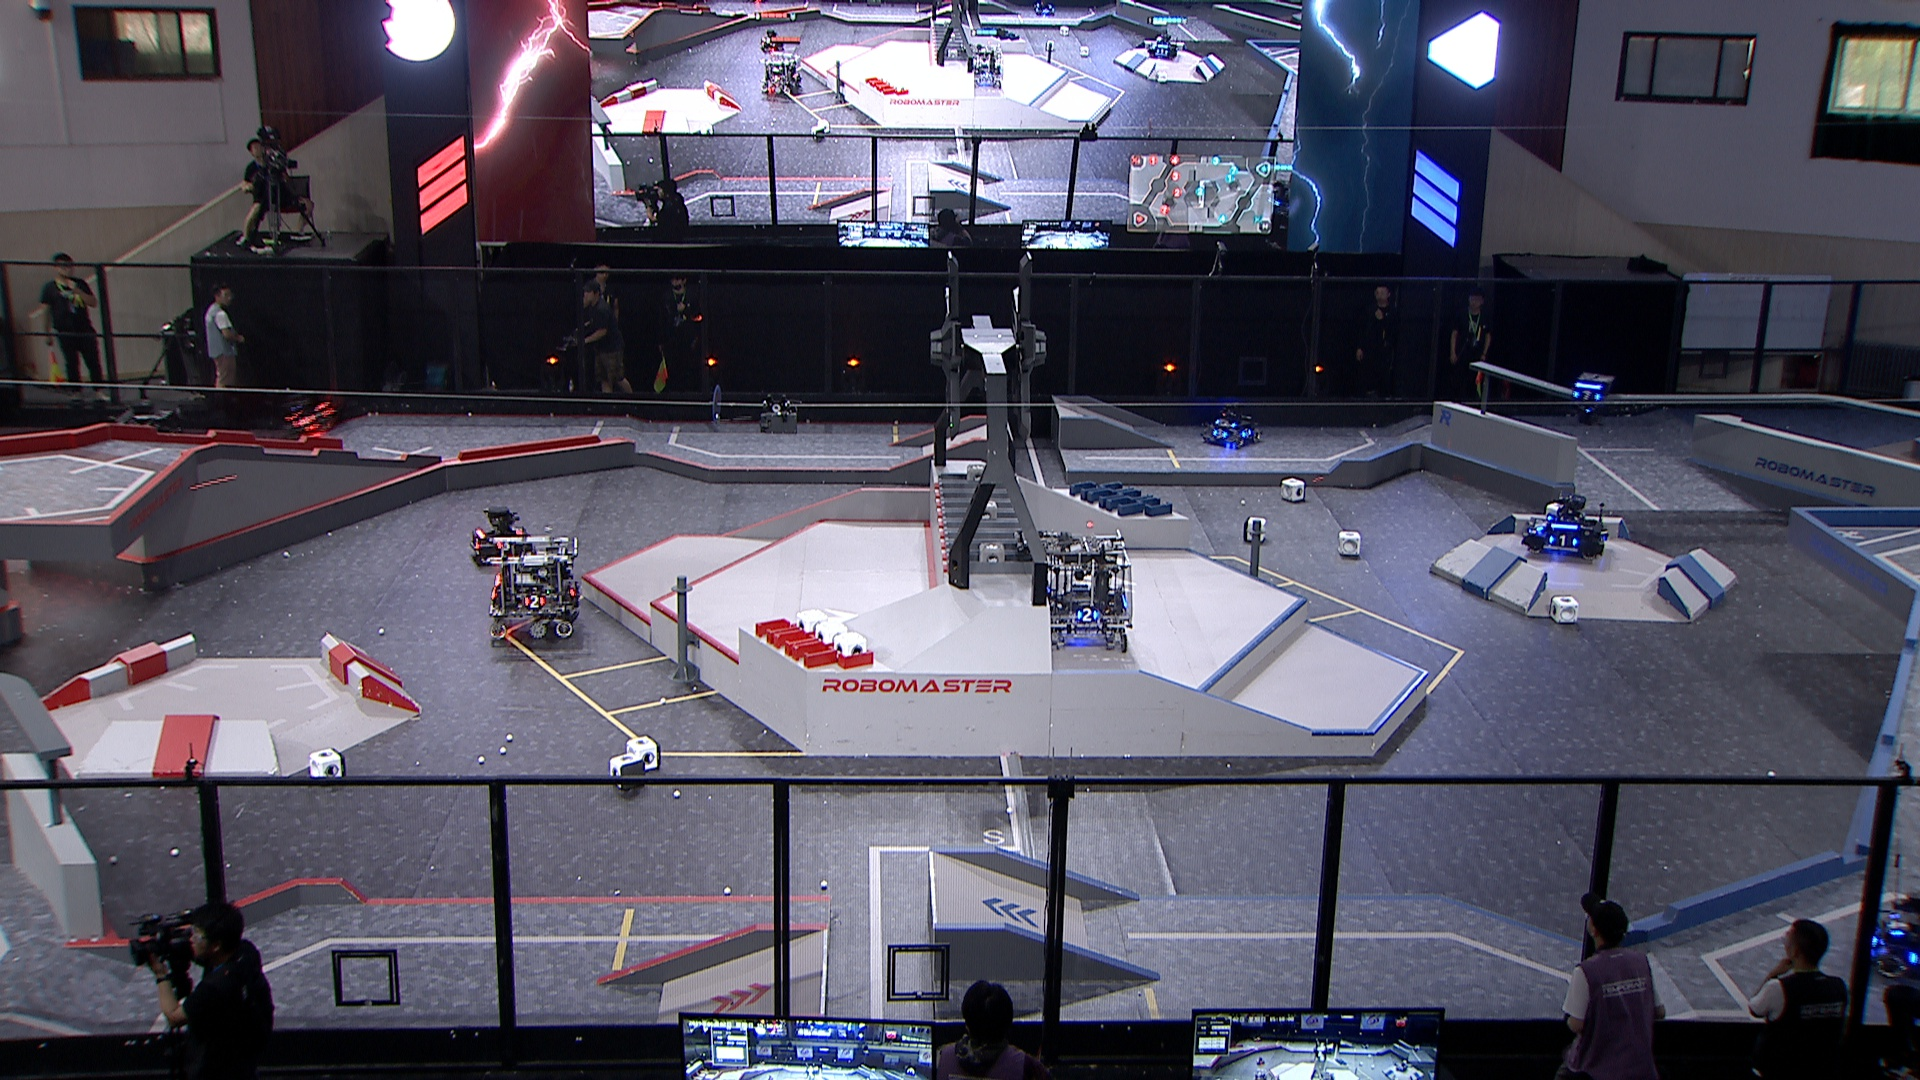armor: (1884, 910, 1911, 938), (1547, 531, 1578, 549), (1572, 390, 1604, 404), (1073, 607, 1098, 622), (524, 593, 546, 609), (1211, 417, 1240, 429), (294, 410, 316, 425), (1534, 517, 1549, 533), (1212, 429, 1229, 442), (1240, 425, 1251, 439)
car: (1031, 526, 1135, 650), (480, 531, 582, 641), (1518, 493, 1611, 564), (1859, 884, 1920, 982), (467, 502, 541, 570), (1196, 396, 1265, 450), (281, 389, 343, 439)
ignore: (761, 54, 804, 96), (968, 41, 1004, 88), (1145, 26, 1182, 61), (760, 26, 785, 53)
watcher: (1569, 371, 1617, 422)
